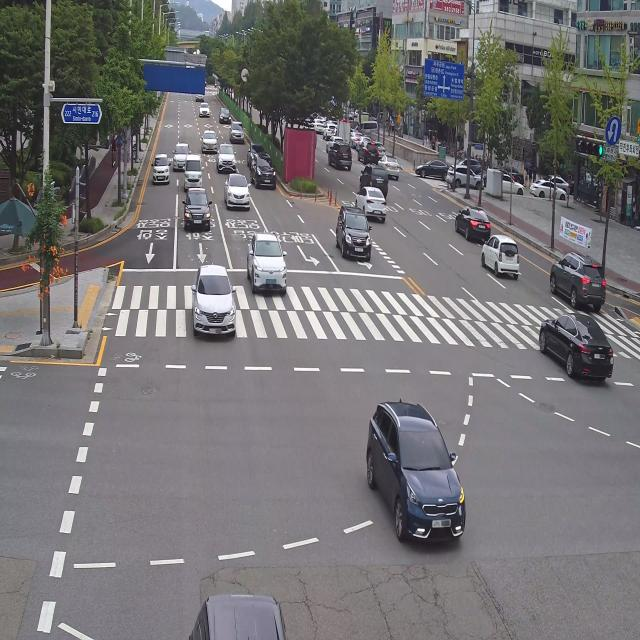Car: (352, 384, 481, 568), (518, 293, 618, 404), (182, 581, 299, 640), (537, 239, 615, 320), (243, 218, 298, 306), (184, 256, 238, 342), (328, 192, 384, 268), (474, 227, 534, 287), (450, 197, 502, 250), (180, 184, 212, 241), (222, 162, 255, 212), (352, 184, 392, 217), (325, 131, 354, 174), (149, 146, 174, 193), (446, 165, 484, 195), (528, 180, 568, 206), (415, 154, 453, 180), (253, 153, 278, 191), (362, 165, 389, 197), (170, 136, 192, 172), (183, 155, 205, 191), (495, 174, 527, 198), (376, 154, 401, 183), (199, 126, 223, 156), (215, 141, 238, 171), (499, 162, 524, 185), (353, 118, 380, 139), (244, 138, 263, 167), (228, 120, 246, 148), (453, 150, 479, 169), (544, 174, 570, 192), (358, 142, 378, 162), (198, 94, 213, 120), (220, 104, 234, 124), (372, 139, 385, 160), (356, 133, 371, 151), (313, 116, 325, 135), (324, 137, 340, 149), (349, 132, 359, 148), (194, 91, 206, 104), (324, 122, 334, 136)
Truck: (334, 120, 351, 144)
